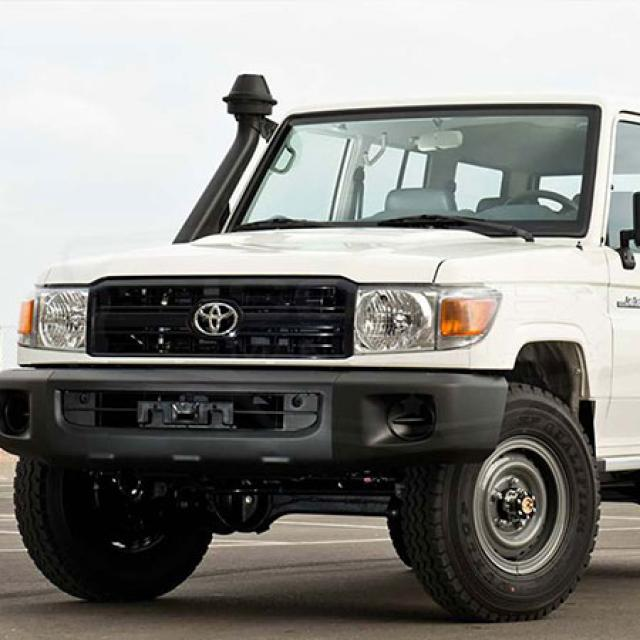light_vehicle: (12, 53, 638, 624)
